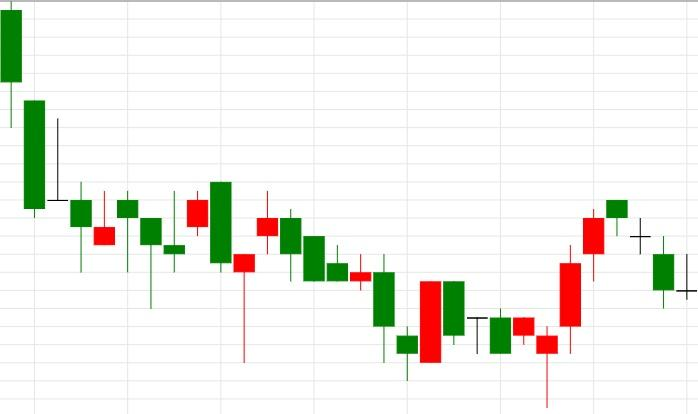inverse_hammer_rise: (1, 0, 115, 272)
three_white_soldiers_rise: (444, 209, 604, 408)
